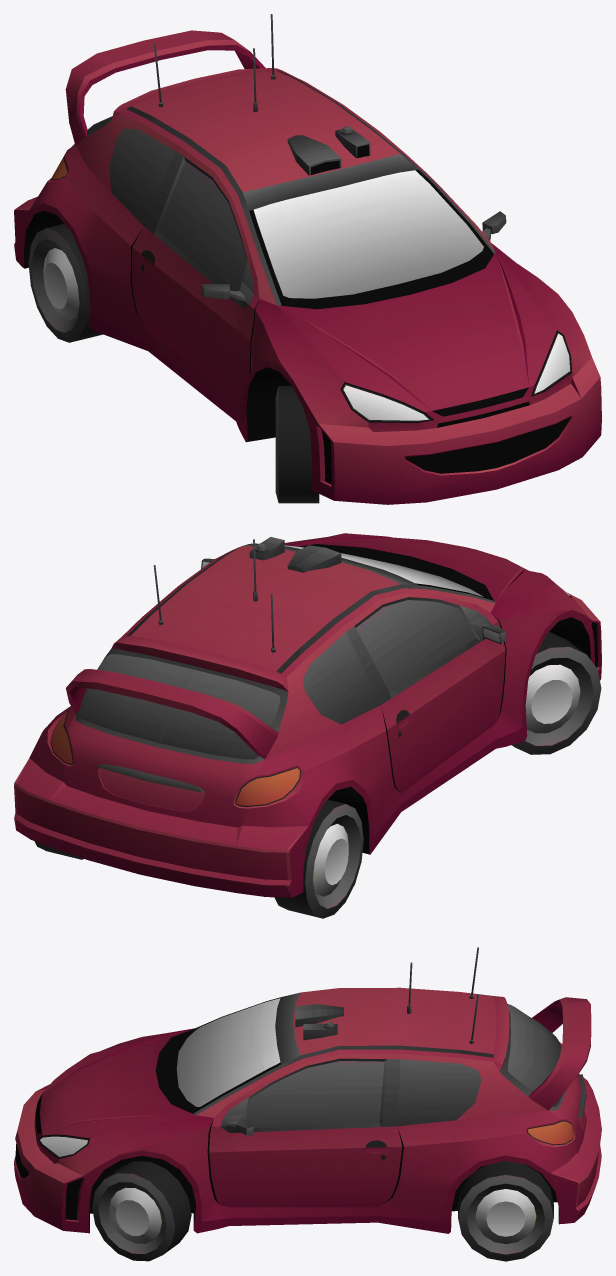
Rendered from v_peug.glb.
The picture shows the model from 3 angles, top to bottom: view 1: azimuth 30°, elevation 25°; view 2: azimuth 150°, elevation 25°; view 3: azimuth 270°, elevation 25°; orthographic projection. The views are drawn at different scales.
Visible parts, largest first — view 1: Body.001, RRW.001, FRW.001; view 2: Body.001, FRW.001, RRW.001; view 3: Body.001, RLW.001, FLW.001.
Part boxes in pixels (x1,y1,x2,y2): Body.001: (14,14,601,504); RRW.001: (28,224,102,342); FRW.001: (275,386,319,503); Body.001: (14,533,601,897); FRW.001: (512,632,601,754); RRW.001: (274,799,363,918); Body.001: (14,947,601,1233); RLW.001: (458,1161,553,1261); FLW.001: (92,1161,191,1261).
Size of the model in its own units: 0.7181 by 0.635 by 1.39.
1 material, 1 textured.
